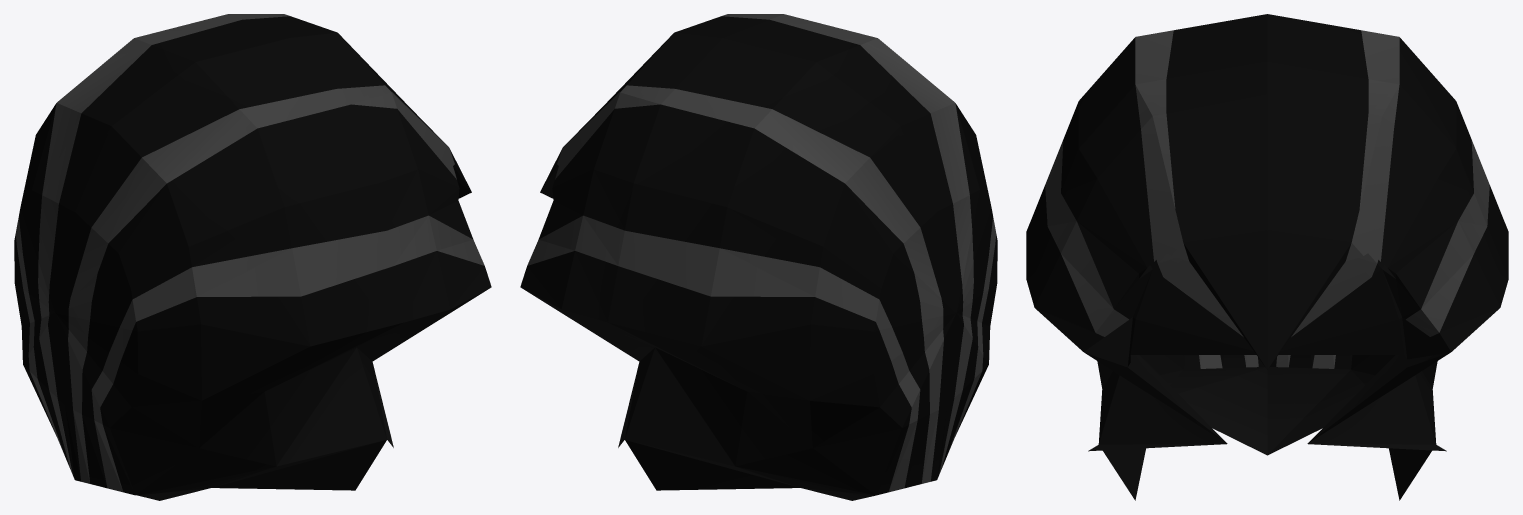
The model's file is VAMPIRE WIG.fbx.
3 renders of one model, left to right at view 1: azimuth 30°, elevation 25°; view 2: azimuth 150°, elevation 25°; view 3: azimuth 270°, elevation 25°, orthographic. The views are drawn at different scales.
Visible parts, largest first — view 1: VAMPIRE_WIG; view 2: VAMPIRE_WIG; view 3: VAMPIRE_WIG.
Boxes of the visible parts, <box> form: VAMPIRE_WIG: <box>14,14,491,500</box>; VAMPIRE_WIG: <box>520,14,997,500</box>; VAMPIRE_WIG: <box>1026,14,1508,500</box>.
Size of the model in its own units: 27.34 by 27.04 by 25.62.
